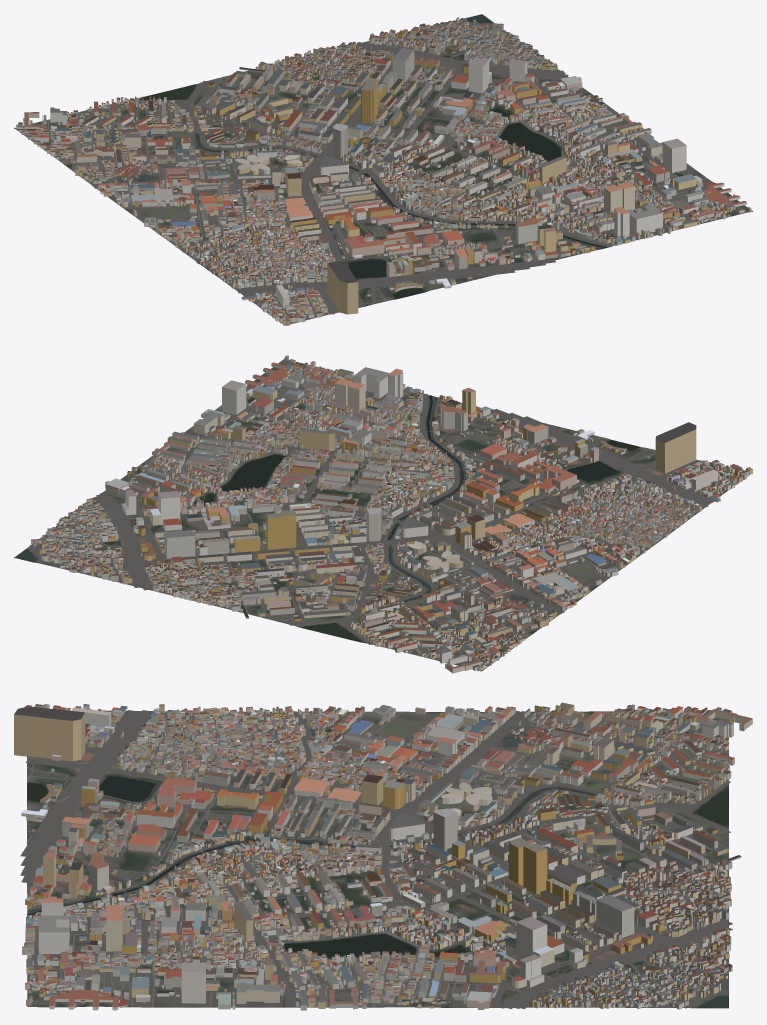
3 renders of one model, top to bottom at view 1: azimuth 30°, elevation 25°; view 2: azimuth 150°, elevation 25°; view 3: azimuth 270°, elevation 25°, orthographic. The views are drawn at different scales.
Visible parts, largest first — view 1: buildings, ground, roads, water; view 2: buildings, ground, roads, water; view 3: buildings, ground, roads, water.
Part boxes in pixels (box(x1,y1,x2,y2)): buildings: box(16, 17, 751, 325); ground: box(14, 16, 752, 325); roads: box(22, 20, 728, 323); water: box(134, 14, 606, 298); buildings: box(31, 355, 752, 673); ground: box(14, 359, 750, 671); roads: box(30, 367, 749, 669); water: box(15, 395, 639, 642); buildings: box(14, 702, 752, 1010); ground: box(27, 710, 728, 1008); roads: box(20, 710, 732, 1008); water: box(26, 728, 728, 1007).
Size of the model in its own units: 1430 by 97.74 by 1476.
